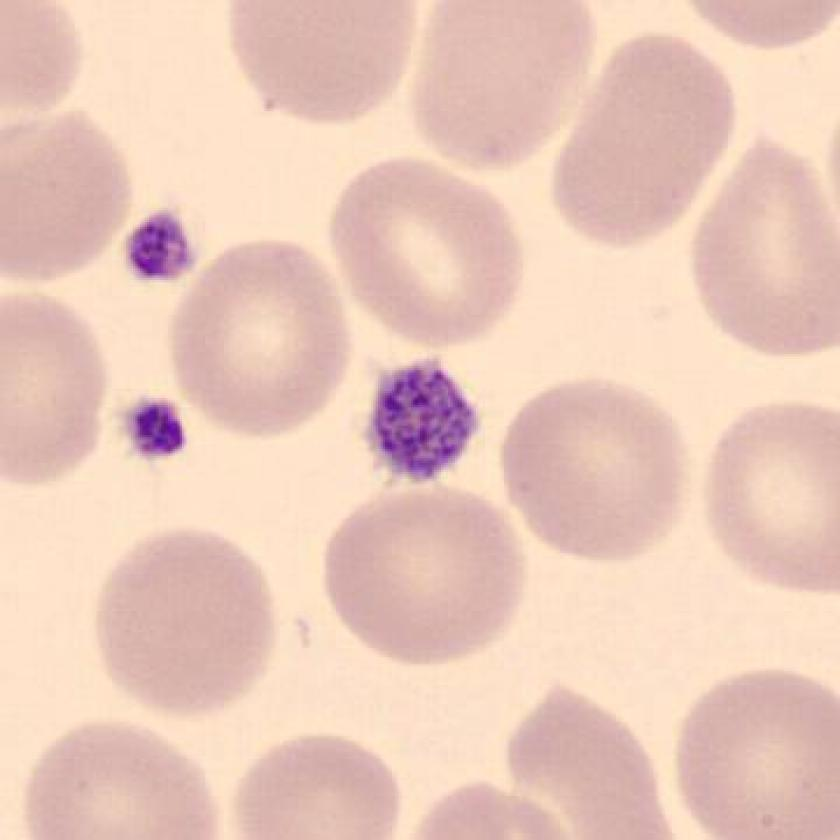platelets: (356, 344, 491, 496), (115, 198, 202, 288), (108, 387, 190, 471)
